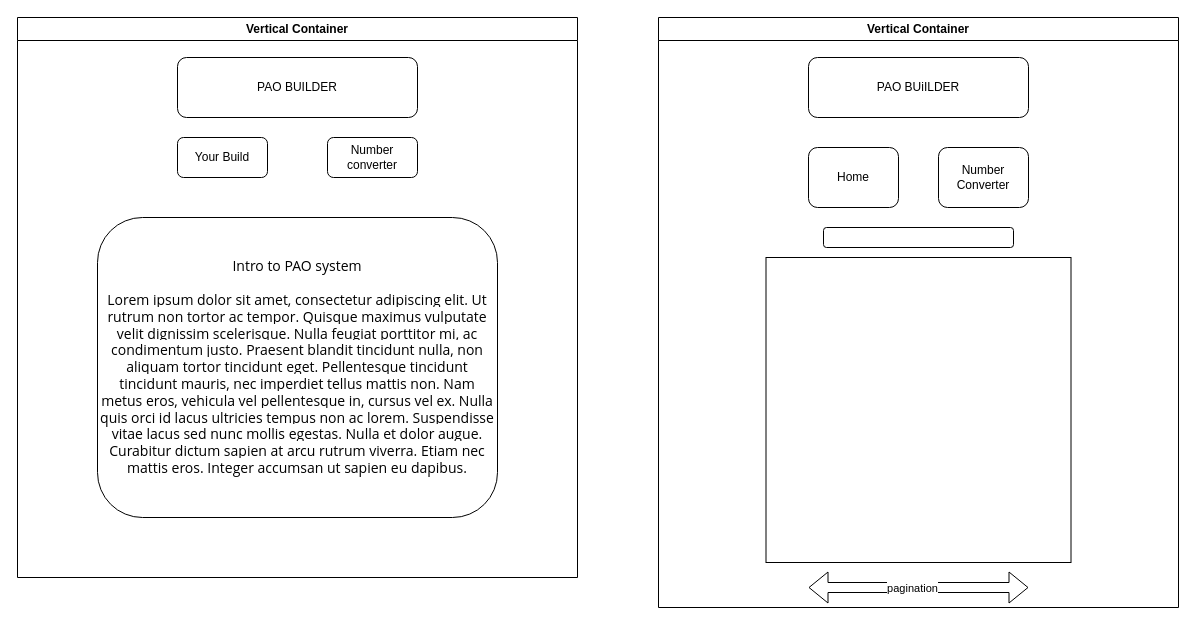
Some shapes in this 1196 by 625 pixel diagram are drawn without their labels. Here are the shapes that lost their labels. From the top down, the centre of each, then its label:
At pixel 918 237: "search".
At pixel 918 409: "Display 26 results eg. AA to AZ or BA to BZ".
